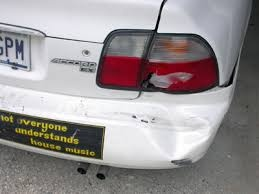Broken-glass: (141, 68, 192, 91)
Dent: (142, 111, 212, 158)
Scratch: (168, 159, 194, 167)
